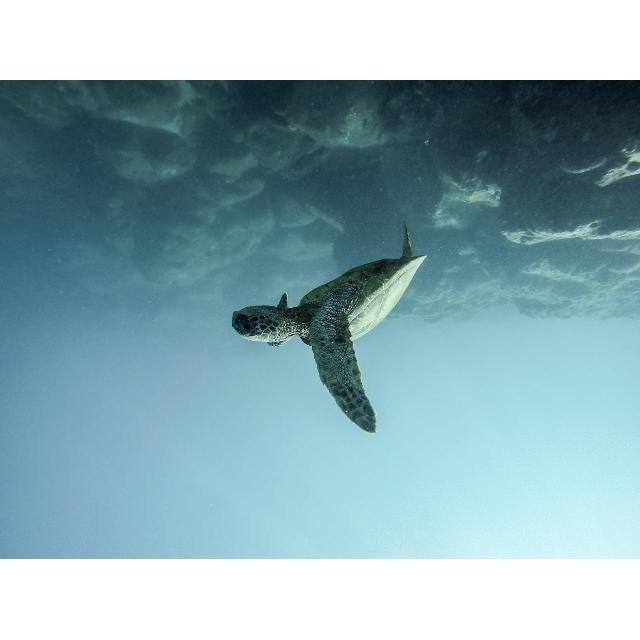turtle: (231, 220, 429, 434)
